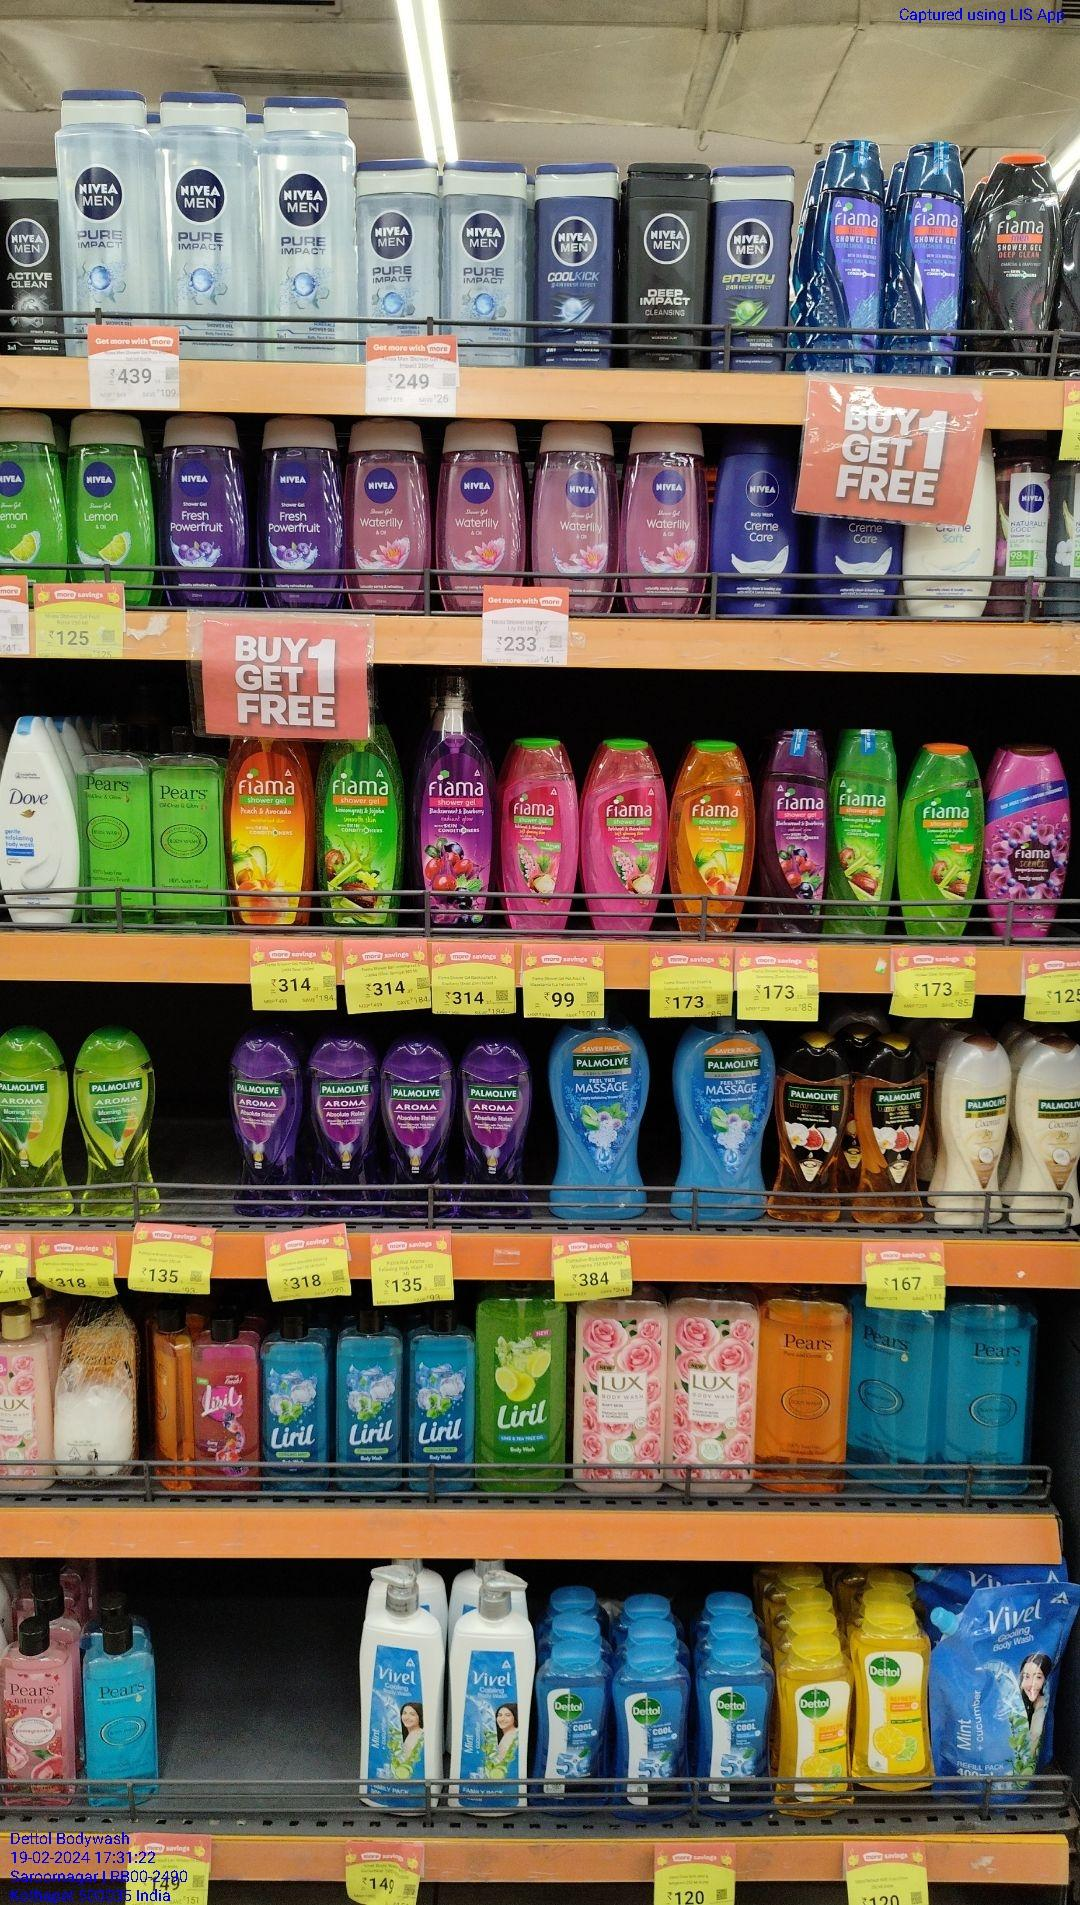Dettol_Bodywash_Cool: (615, 1647, 694, 1824), (698, 1642, 775, 1819), (534, 1635, 610, 1815)
Dettol_Bodywash_Refresh: (859, 1599, 933, 1796), (779, 1634, 855, 1817)
Dove_Gentle_Exfoliating_Body_Wash_250ML: (0, 710, 81, 924)
Fiama_Shower_Gel_Lemongrass_and_Jojoba_250ML: (897, 744, 984, 939), (829, 727, 891, 935)
Fiama_Shower_Gel_Patchouli_and_Macadamia_250ML: (580, 735, 668, 932), (499, 735, 577, 926)
Fiama_Shower_Gel_Peach_and_Avocado_250ML: (673, 739, 755, 930)
Liril_Cooling_Mint_Body_Wash_250ML: (406, 1306, 475, 1497), (334, 1304, 403, 1494), (264, 1316, 331, 1492)
Nivea_Creme_Care_Body_Wash_250ML: (712, 424, 791, 615), (813, 522, 901, 611)
Nivea_Creme_Soft_Body_Wash_250ML: (906, 525, 995, 615)
Nivea_Shower_Gel_Fresh_Powerfruit_250ML: (259, 412, 350, 607), (160, 410, 249, 603)
Nivea_Shower_Gel_Lemon_and_Oil_250ML: (72, 411, 157, 577), (0, 411, 67, 580)
Nivea_Shower_Gel_Waterlily_and_Oil_250ML: (623, 425, 708, 612), (353, 416, 429, 611), (533, 419, 621, 585), (439, 420, 528, 584)
Palmolive_Aroma_Morning_Tonic_Shower_Gel_250ML: (80, 1028, 161, 1217), (0, 1028, 76, 1221)
Palmolive_Aroma_Relax_250ML: (230, 1034, 305, 1218), (308, 1034, 382, 1217), (461, 1041, 534, 1222), (386, 1039, 457, 1222)
Palmolive_Luminous_Oils_With_White_Orchid_Shower_Gel_250ML: (774, 1026, 848, 1223), (857, 1040, 927, 1225)
Pears_Pure_Glycerin_and_Lemon_Flower_Extracts_Body_Wash_250ML: (154, 725, 226, 928), (85, 722, 151, 928)
